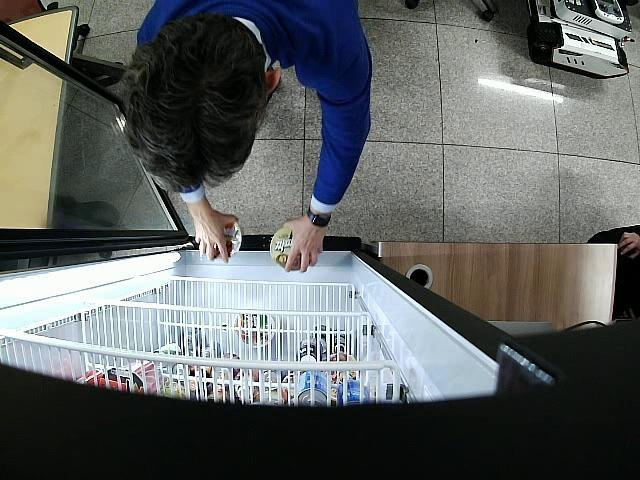03_chapagetti_L: (270, 226, 311, 270), (205, 222, 242, 260)
